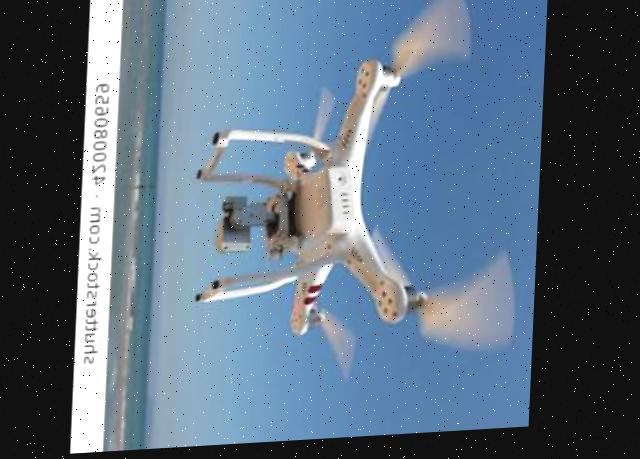drone: (179, 0, 542, 396)
